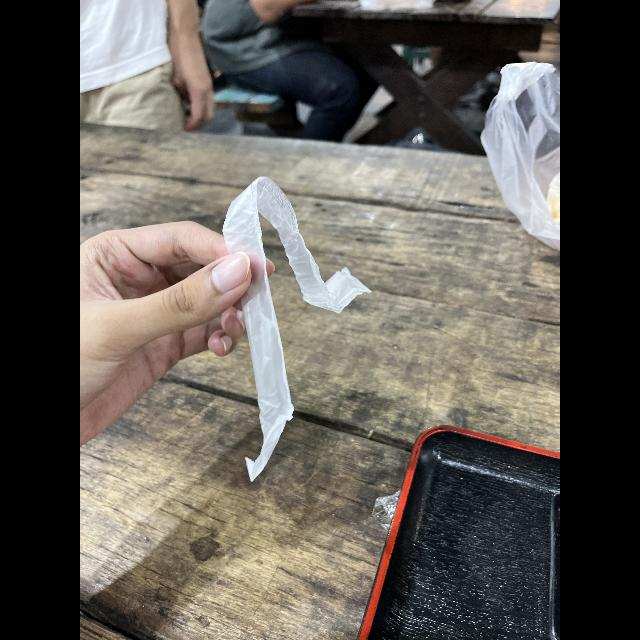plastic_bag: (476, 58, 560, 266)
scrap_plastic: (218, 160, 372, 486)
